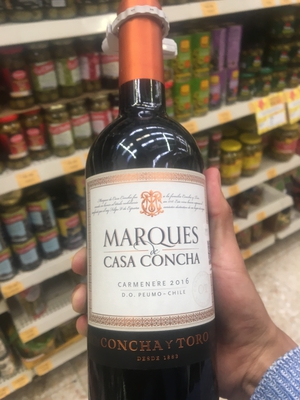marques de casa concha carmenere: (76, 8, 225, 384)
